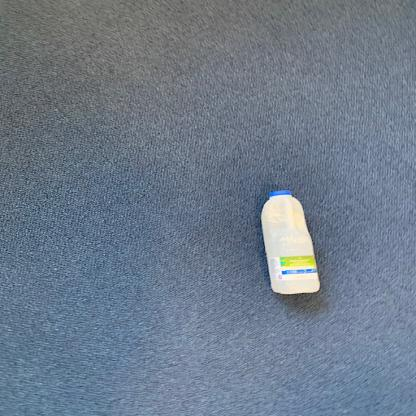trash: (260, 186, 326, 298)
